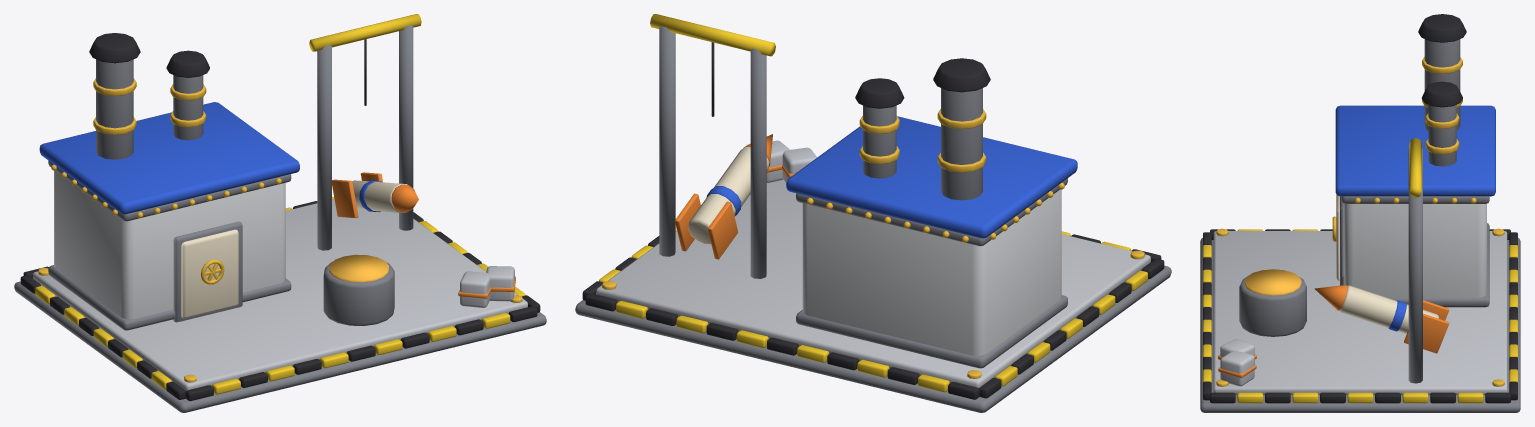
Rendered from SiegeWorkshop.glb.
The picture shows the model from 3 angles, left to right: view 1: azimuth 30°, elevation 25°; view 2: azimuth 150°, elevation 25°; view 3: azimuth 270°, elevation 25°; orthographic projection. The views are drawn at different scales.
Visible parts, largest first — view 1: SiegeWorkshop; view 2: SiegeWorkshop; view 3: SiegeWorkshop.
Part boxes in pixels (x1,y1,x2,y2): SiegeWorkshop: (14, 14, 546, 412); SiegeWorkshop: (575, 14, 1171, 412); SiegeWorkshop: (1200, 14, 1520, 412).
Bounding box in the file's own units: 4.5 × 3.12 × 3.6.
